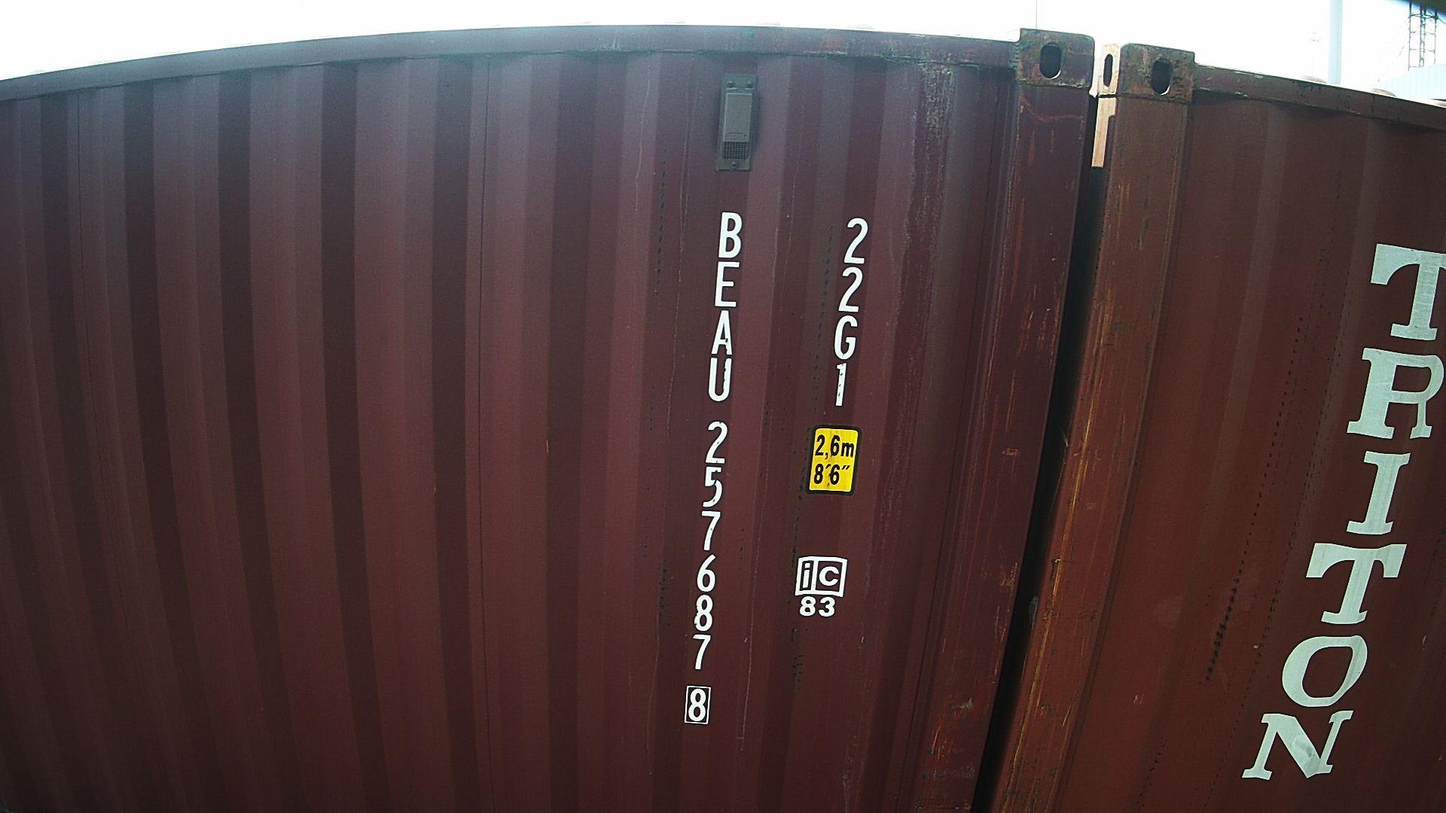container-numbers: (682, 202, 746, 732), (822, 212, 874, 413)
